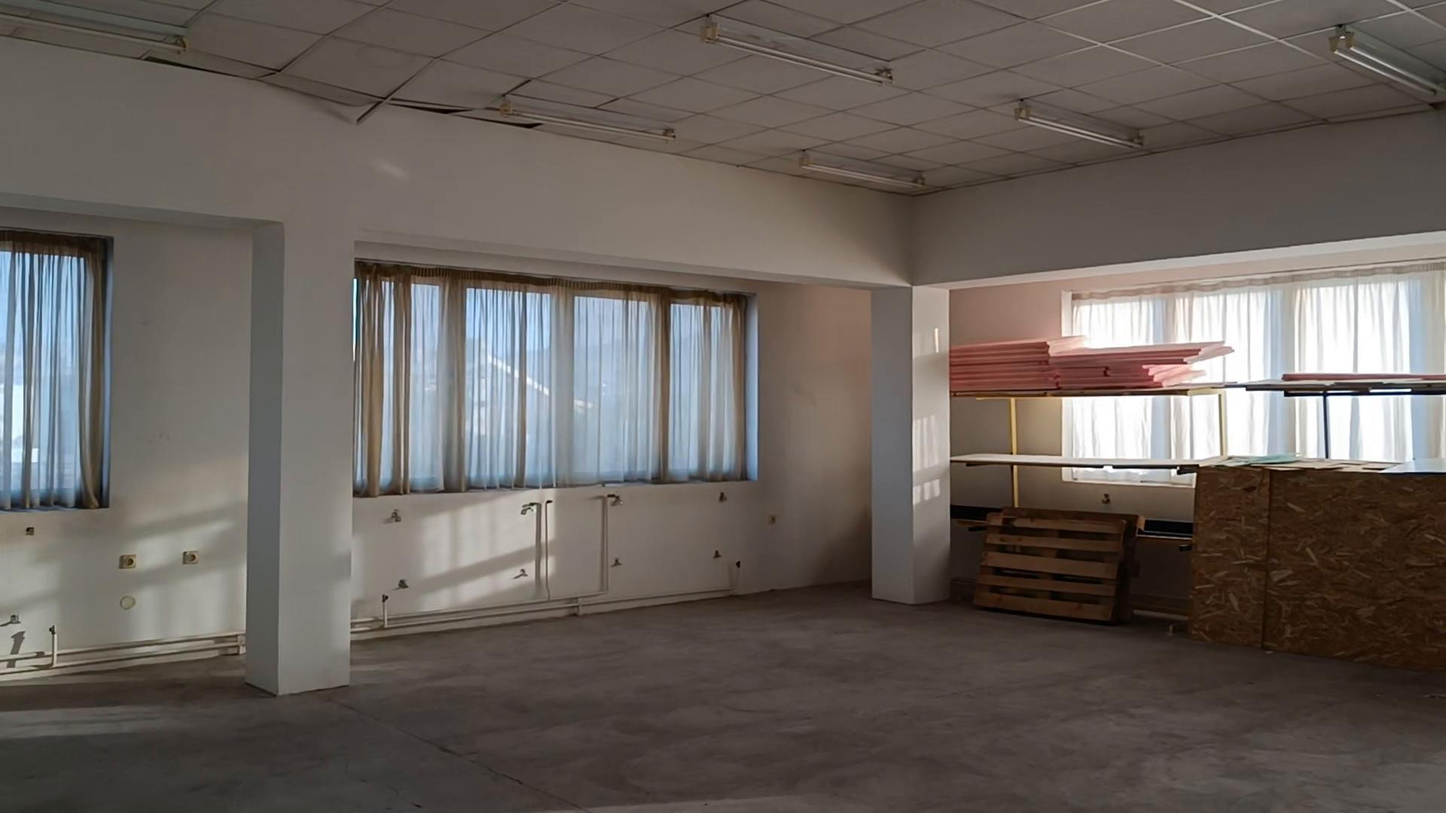ceiling: (0, 0, 1445, 193)
floor: (0, 589, 1445, 812)
wall: (0, 39, 1445, 698), (0, 236, 252, 654), (356, 484, 762, 624)
